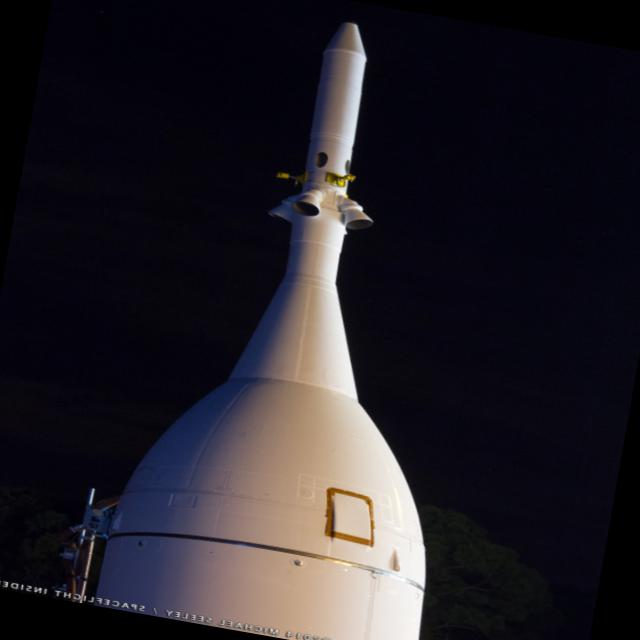rocket: (253, 11, 417, 278)
